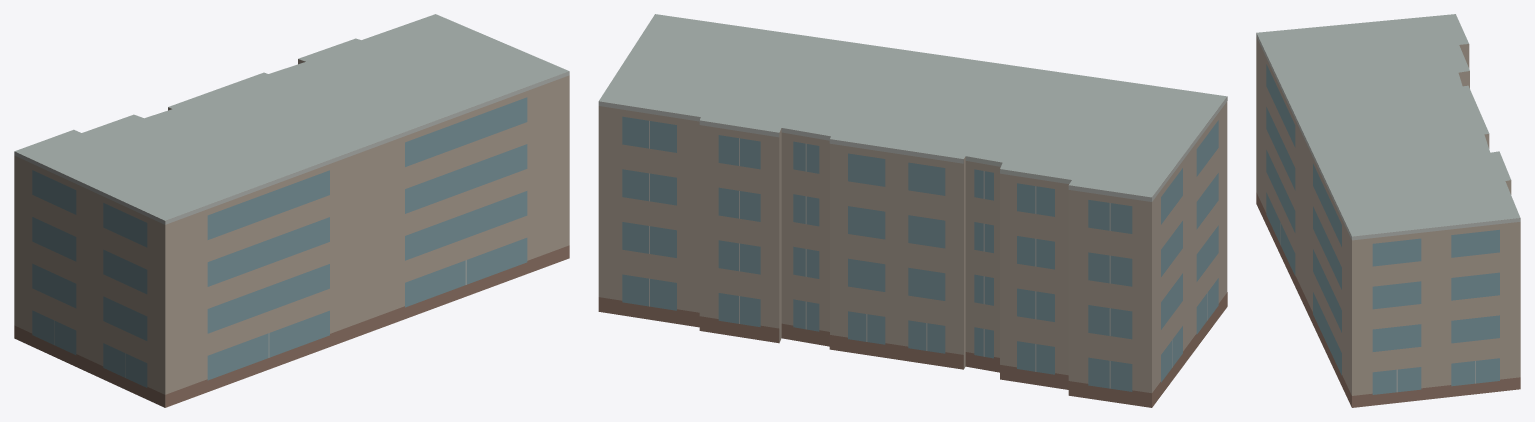
File: survey-upis-32719179.glb
The picture shows the model from 3 angles, left to right: view 1: azimuth 30°, elevation 25°; view 2: azimuth 150°, elevation 25°; view 3: azimuth 270°, elevation 25°; orthographic projection. The views are drawn at different scales.
Visible parts, largest first — view 1: survey-upis-32719179.tmp; view 2: survey-upis-32719179.tmp; view 3: survey-upis-32719179.tmp.
Boxes of the visible parts, <box> form: survey-upis-32719179.tmp: <box>14,14,569,407</box>; survey-upis-32719179.tmp: <box>598,14,1227,407</box>; survey-upis-32719179.tmp: <box>1256,14,1520,407</box>.
Size of the model in its own units: 30.96 by 11.1 by 15.52.
